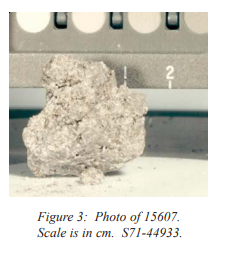Basalt: (24, 48, 144, 174)
